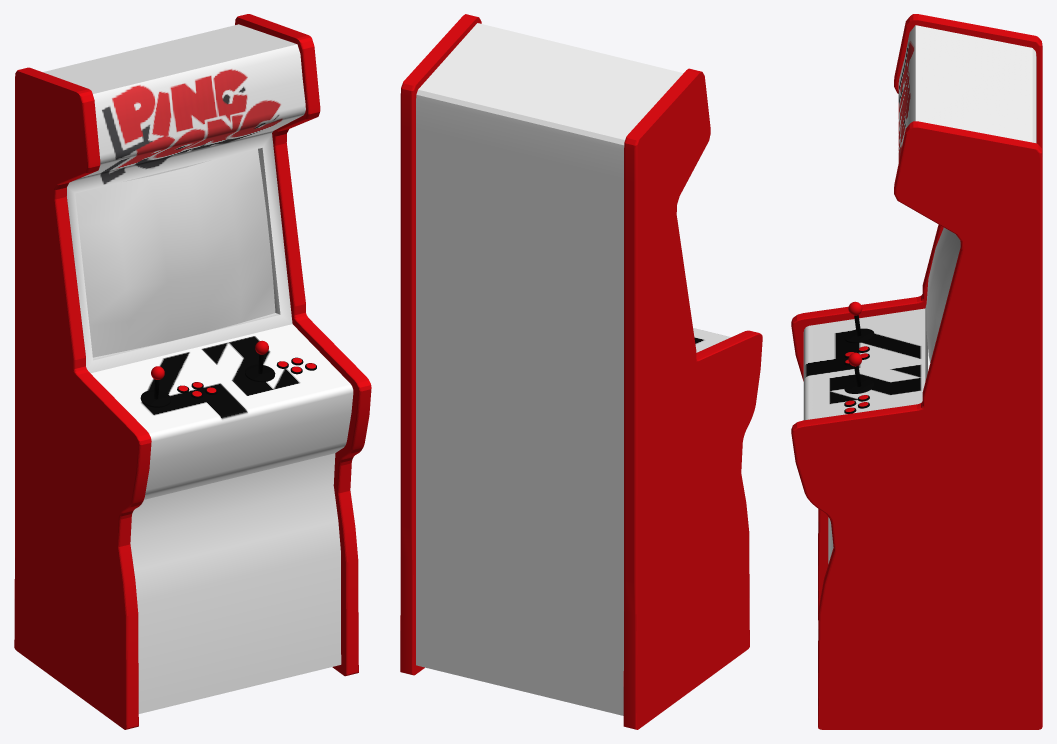
Rendered from arcade.glb.
3 views of the same model, side by side, from view 1: azimuth 30°, elevation 25°; view 2: azimuth 150°, elevation 25°; view 3: azimuth 270°, elevation 25° (orthographic).
Parts seen in each view (by area): view 1: body, side, screen, Buttons; view 2: body, side; view 3: side, body, screen, Buttons.
Part boxes in pixels (<box>): body: <box>43,24,353,713</box>; side: <box>14,14,371,729</box>; screen: <box>75,149,275,357</box>; Buttons: <box>177,357,316,398</box>; body: <box>416,23,730,715</box>; side: <box>400,14,762,729</box>; side: <box>791,14,1042,729</box>; body: <box>803,25,1036,563</box>; screen: <box>926,227,960,362</box>; Buttons: <box>844,346,869,413</box>.
Bounding box in the file's own units: 2.26 × 5.58 × 2.11.
Materials: 5 (1 with a texture image).
